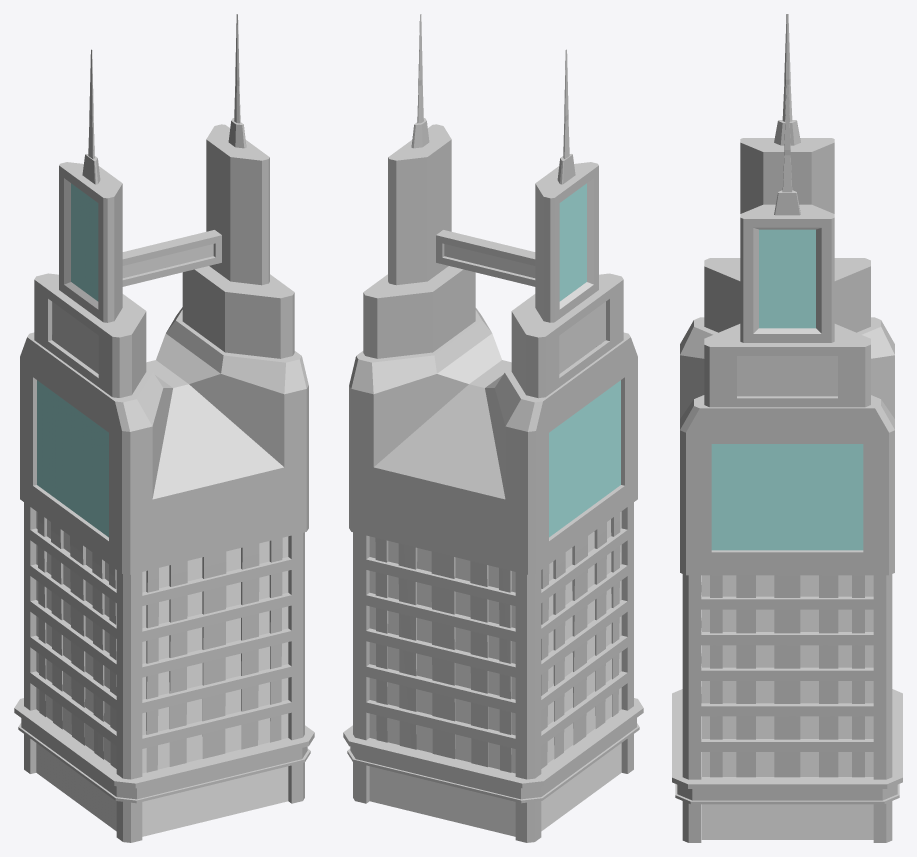
Rendered from classMain1.gltf.
The picture shows the model from 3 angles, left to right: view 1: azimuth 30°, elevation 25°; view 2: azimuth 150°, elevation 25°; view 3: azimuth 270°, elevation 25°; orthographic projection.
Parts seen in each view (by area): view 1: Skyscr_09_A.003; view 2: Skyscr_09_A.003; view 3: Skyscr_09_A.003.
Part boxes in pixels (box(x1,y1,x2,y2)): Skyscr_09_A.003: box(14, 14, 314, 842); Skyscr_09_A.003: box(343, 14, 643, 842); Skyscr_09_A.003: box(672, 14, 902, 842).
Bounding box in the file's own units: 0.9931 × 3.56 × 0.9931.
